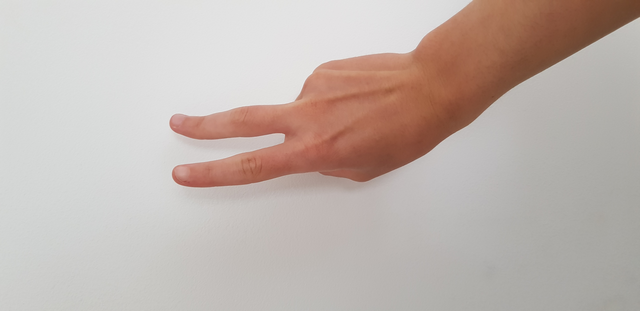Scissors: (143, 44, 487, 220)
